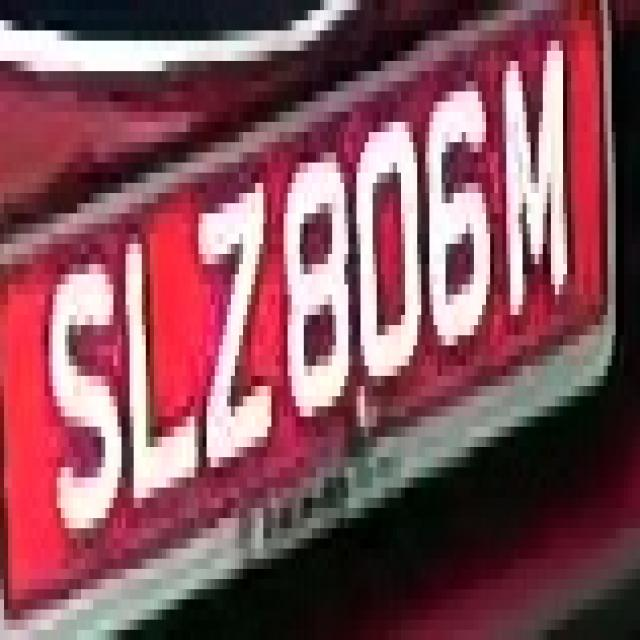0: (344, 81, 430, 396)
6: (413, 71, 494, 366)
8: (272, 132, 356, 417)
L: (118, 193, 198, 528)
M: (490, 20, 575, 315)
S: (40, 203, 121, 579)
Z: (182, 142, 280, 488)
